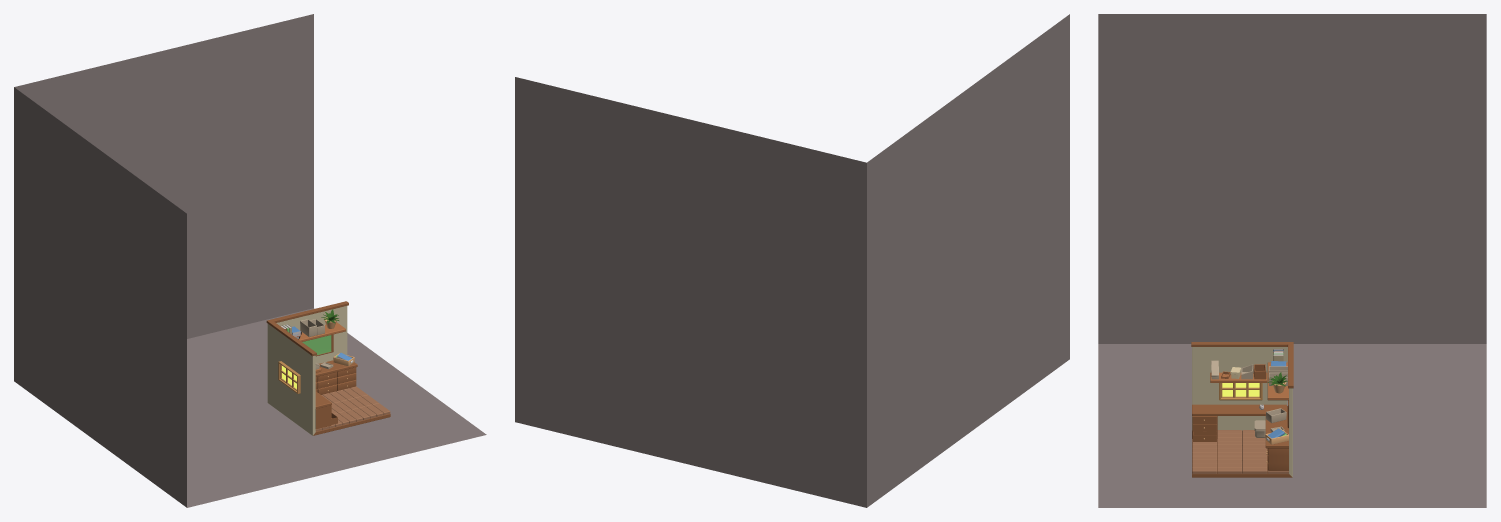
The model's file is bedroom-model-max.glb.
3 renders of one model, left to right at view 1: azimuth 30°, elevation 25°; view 2: azimuth 150°, elevation 25°; view 3: azimuth 270°, elevation 25°, orthographic. The views are drawn at different scales.
Parts seen in each view (by area): view 1: Plane.043, Room Base, Floor, Dolap, Plane.041; view 2: Plane.043; view 3: Plane.043, Room Base, Floor, Masa, Window, Plane.041, Kucuk_dolap, Dolap.
Part boxes in pixels (left/top/right/bottom): Plane.043: left=14, top=14, right=486, bottom=507; Room Base: left=267, top=306, right=390, bottom=435; Floor: left=315, top=386, right=390, bottom=431; Dolap: left=315, top=367, right=356, bottom=394; Plane.041: left=266, top=301, right=348, bottom=356; Plane.043: left=515, top=14, right=1069, bottom=507; Plane.043: left=1098, top=14, right=1486, bottom=507; Room Base: left=1192, top=347, right=1292, bottom=477; Floor: left=1192, top=430, right=1288, bottom=473; Masa: left=1192, top=404, right=1287, bottom=415; Window: left=1219, top=383, right=1262, bottom=400; Plane.041: left=1191, top=342, right=1293, bottom=388; Kucuk_dolap: left=1192, top=416, right=1217, bottom=441; Dolap: left=1266, top=448, right=1288, bottom=470.
Size of the model in its own units: 18.61 by 17.45 by 18.61.
